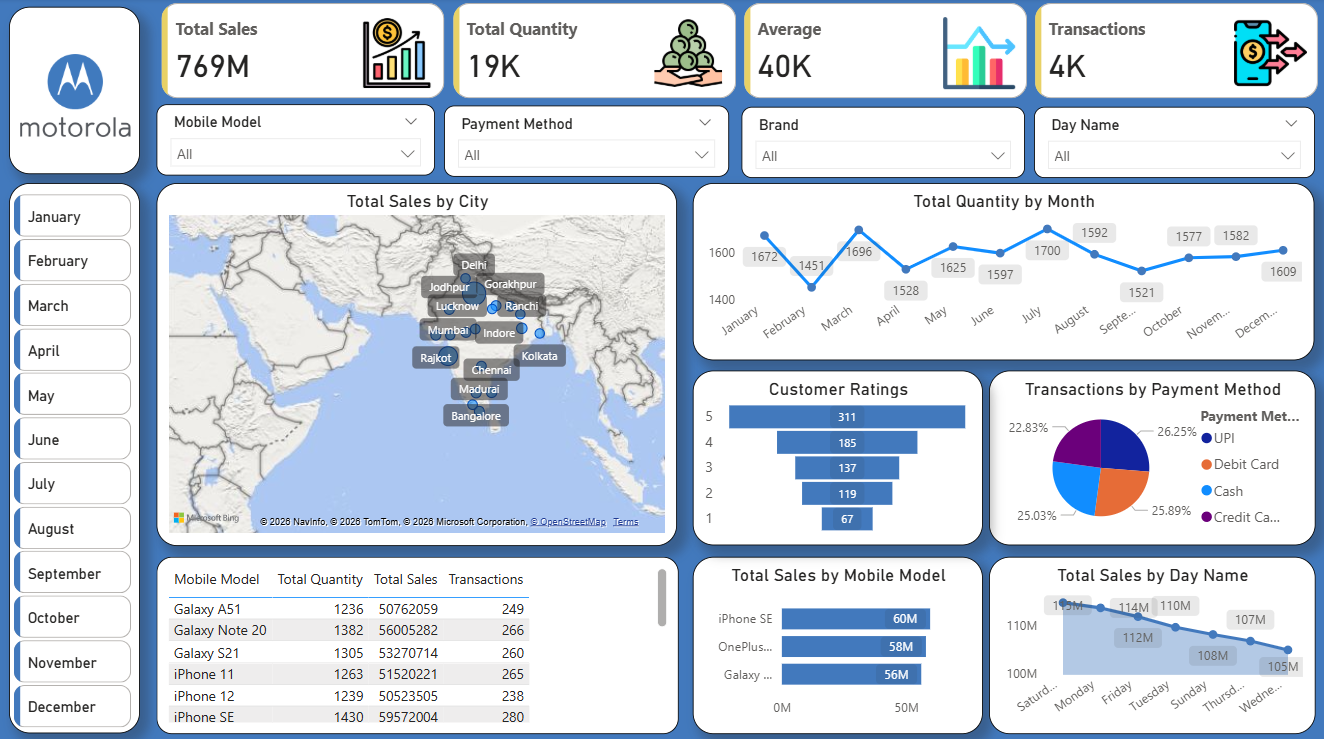

The dashboard page shown, as its layout file describes it:
{"tool":"powerbi","page":{"name":"Page 1","canvas":[1280,720],"ordinal":0},"visuals":[{"type":"shape","box":[10,8.8,126.2,161.2],"z":0},{"type":"image","box":[16.2,17.5,116.2,152.5],"z":1000},{"type":"shape","box":[10,178.8,126.2,531.2],"z":2000},{"type":"advancedSlicerVisual","fields":{"Values":["sales data.Date.Variation.Date Hierarchy.Month"]},"box":[10,185,123.8,535],"z":3000},{"type":"cardVisual","fields":{"Data":["sales data.Total Sales","sales data.Total Quantity","sales data.Average","sales data.Transactions"]},"box":[152.5,0,1126.2,102.5],"z":4000},{"type":"map","fields":{"Category":["sales data.City"],"Size":["sales data.Total Sales"]},"box":[152.5,178.8,502.5,350],"z":5000},{"type":"lineChart","fields":{"Category":["sales data.Date.Variation.Date Hierarchy.Month","sales data.Date.Variation.Date Hierarchy.Day"],"Y":["sales data.Total Quantity"]},"box":[670,178.8,600,171.2],"z":6000},{"type":"clusteredBarChart","fields":{"Category":["sales data.Mobile Model"],"Y":["sales data.Total Sales"]},"box":[670,538.8,280,171.2],"z":7000},{"type":"pieChart","fields":{"Y":["sales data.Transactions"],"Category":["sales data.Payment Method"]},"box":[955,360,315,168.8],"z":8000},{"type":"funnel","title":"Customer Ratings ","fields":{"Category":["sales data.Customer Ratings"],"Y":["CountNonNull(sales data.Customer Ratings)"]},"box":[670,360,280,168.8],"z":9000},{"type":"tableEx","fields":{"Values":["sales data.Mobile Model","sales data.Total Quantity","sales data.Total Sales","sales data.Transactions"]},"box":[152.5,538.8,503.8,171.2],"z":10000},{"type":"slicer","fields":{"Values":["sales data.Mobile Model"]},"box":[152.5,102.5,268.8,68.8],"z":11000},{"type":"slicer","fields":{"Values":["sales data.Payment Method"]},"box":[430,103.8,275,68.8],"z":12000},{"type":"slicer","fields":{"Values":["sales data.Brand"]},"box":[716.2,105,273.8,68.8],"z":13000},{"type":"slicer","fields":{"Values":["sales data.Day Name"]},"box":[998.8,105,271.2,68.8],"z":14000},{"type":"areaChart","fields":{"Category":["sales data.Day Name"],"Y":["sales data.Total Sales"]},"box":[955,539,315,171],"z":15000}]}

Visuals, with their boxes in screenshot pixels (x1, y1, x2, y2), scaled from the page's 1280x720 canvas onto the 1324x739 screenshot:
shape: locate(10, 9, 141, 174)
image: locate(17, 18, 137, 174)
shape: locate(10, 184, 141, 729)
advancedSlicerVisual - sales data.Date.Variation.Date Hierarchy.Month: locate(10, 190, 138, 738)
cardVisual - sales data.Total Sales x sales data.Total Quantity: locate(158, 0, 1323, 105)
map - sales data.City x sales data.Total Sales: locate(158, 184, 678, 543)
lineChart - sales data.Date.Variation.Date Hierarchy.Month x sales data.Date.Variation.Date Hierarchy.Day: locate(693, 184, 1314, 359)
clusteredBarChart - sales data.Mobile Model x sales data.Total Sales: locate(693, 553, 983, 729)
pieChart - sales data.Transactions x sales data.Payment Method: locate(988, 369, 1314, 543)
"Customer Ratings " funnel: locate(693, 369, 983, 543)
tableEx - sales data.Mobile Model x sales data.Total Quantity: locate(158, 553, 679, 729)
slicer - sales data.Mobile Model: locate(158, 105, 436, 176)
slicer - sales data.Payment Method: locate(445, 107, 729, 177)
slicer - sales data.Brand: locate(741, 108, 1024, 178)
slicer - sales data.Day Name: locate(1033, 108, 1314, 178)
areaChart - sales data.Day Name x sales data.Total Sales: locate(988, 553, 1314, 729)
